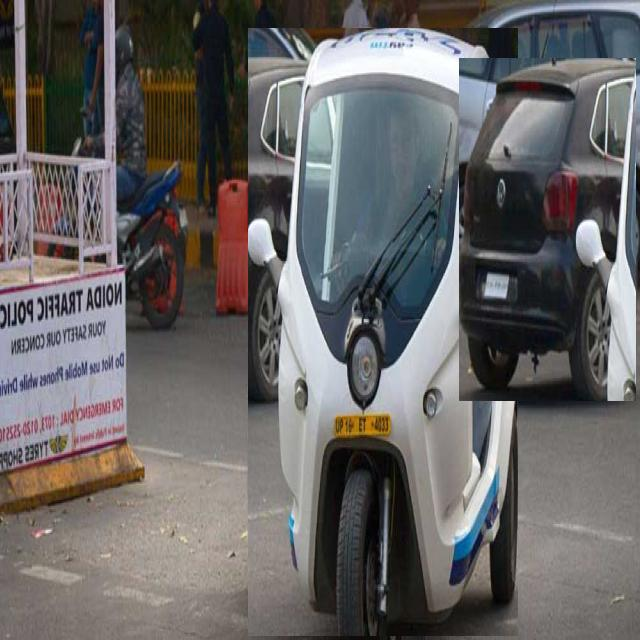autorickshaw: (248, 29, 518, 636)
car: (459, 58, 636, 401), (452, 0, 640, 190)
motorcycle: (116, 26, 188, 328)
